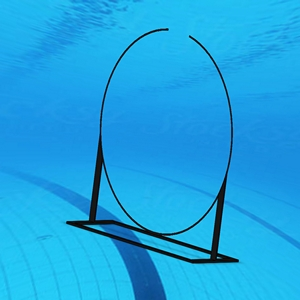circle: (64, 25, 243, 272)
